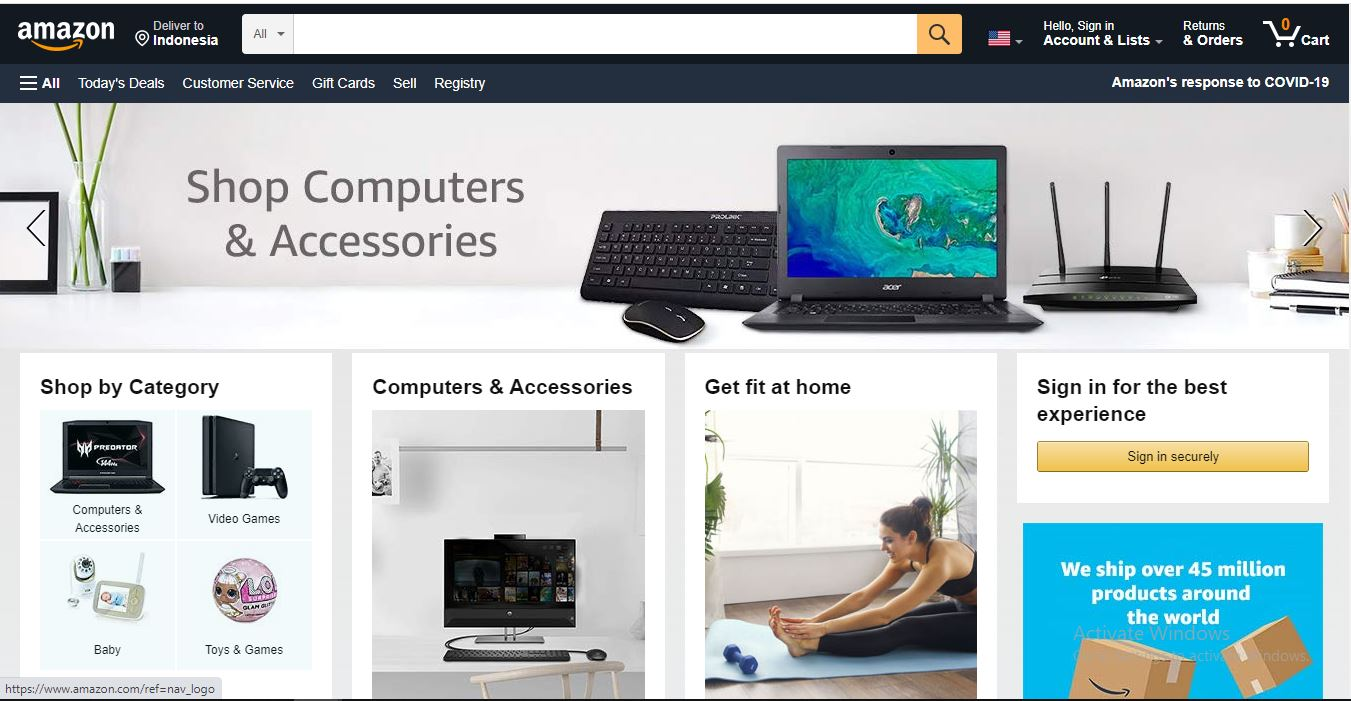Button: (1029, 439, 1318, 476), (916, 12, 966, 55)
Image: (4, 103, 1351, 294), (373, 403, 643, 701), (708, 413, 977, 701), (47, 406, 305, 686), (1025, 526, 1326, 701), (0, 3, 132, 69)
Menu Bar: (10, 66, 508, 101)
Nav Bar: (981, 10, 1350, 66)
Text Field: (294, 15, 918, 54)
